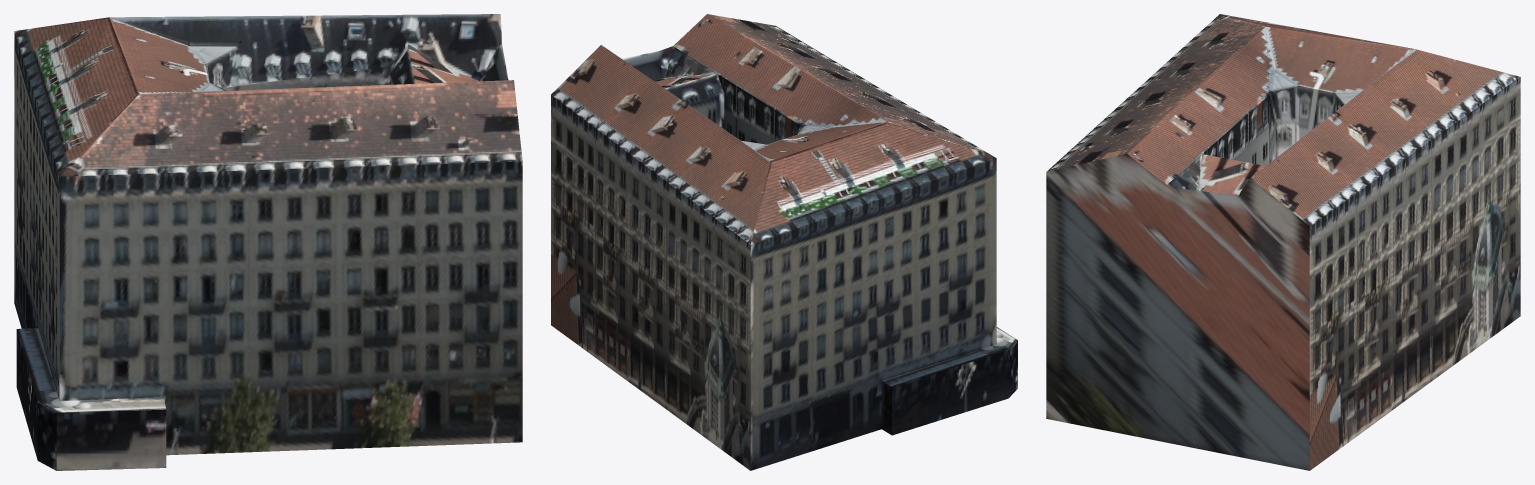
3 renders of one model, left to right at view 1: azimuth 30°, elevation 25°; view 2: azimuth 150°, elevation 25°; view 3: azimuth 270°, elevation 25°, orthographic. The views are drawn at different scales.
Visible parts, largest first — view 1: Z_UP; view 2: Z_UP; view 3: Z_UP.
Boxes of the visible parts, <box> form: Z_UP: <box>14,14,522,470</box>; Z_UP: <box>551,14,1017,470</box>; Z_UP: <box>1046,14,1520,470</box>.
Size of the model in its own units: 47.68 by 29.02 by 44.16.
Materials: 2 (1 with a texture image).
